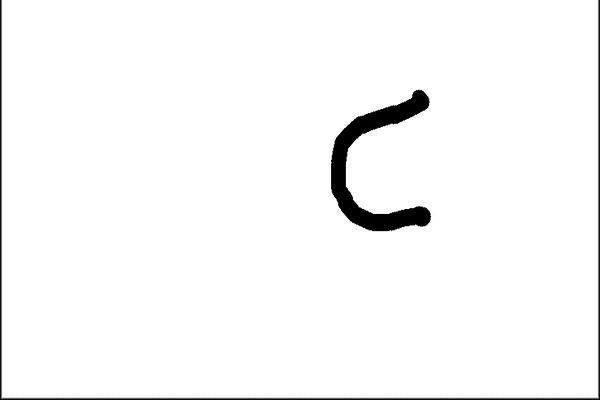C: (323, 85, 439, 235)
